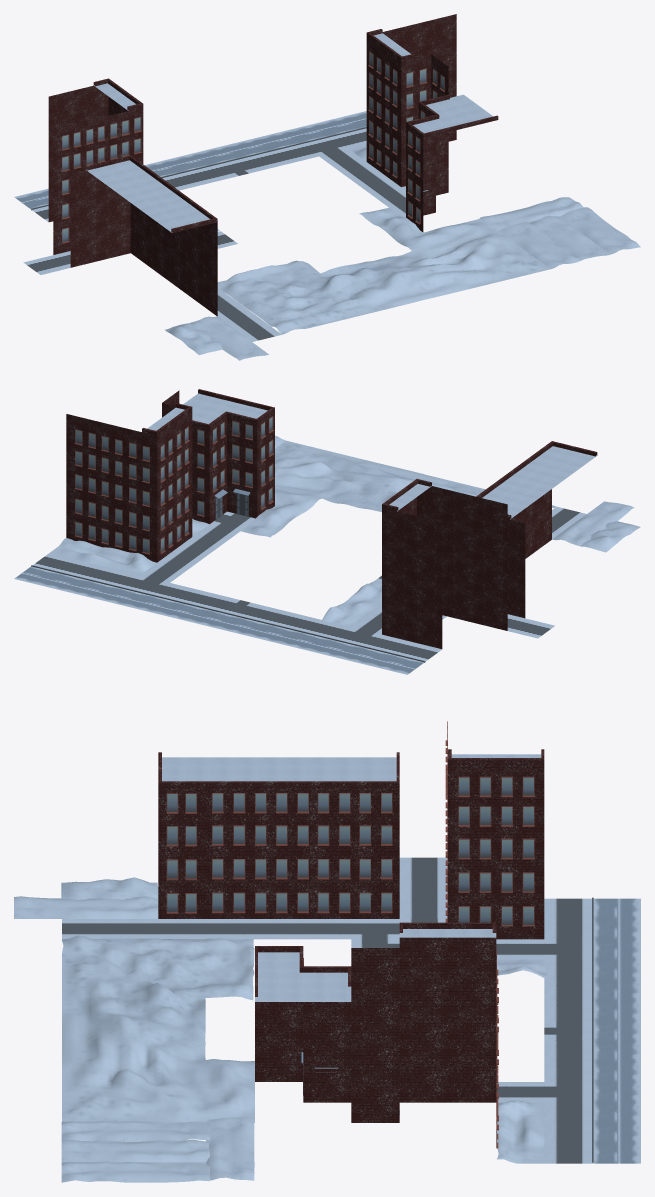
Rendered from NEW STREET.fbx.
3 views of the same model, one above another, from view 1: azimuth 30°, elevation 25°; view 2: azimuth 150°, elevation 25°; view 3: azimuth 270°, elevation 25° (orthographic). The views are drawn at different scales.
Parts seen in each view (by area): view 1: NEW_STREET; view 2: NEW_STREET; view 3: NEW_STREET.
Boxes of the visible parts, box(x1,y1,x2,y2) form: NEW_STREET: box(14, 14, 640, 360); NEW_STREET: box(14, 389, 640, 674); NEW_STREET: box(14, 721, 640, 1182).
Size of the model in its own units: 31.88 by 8.37 by 25.99.
